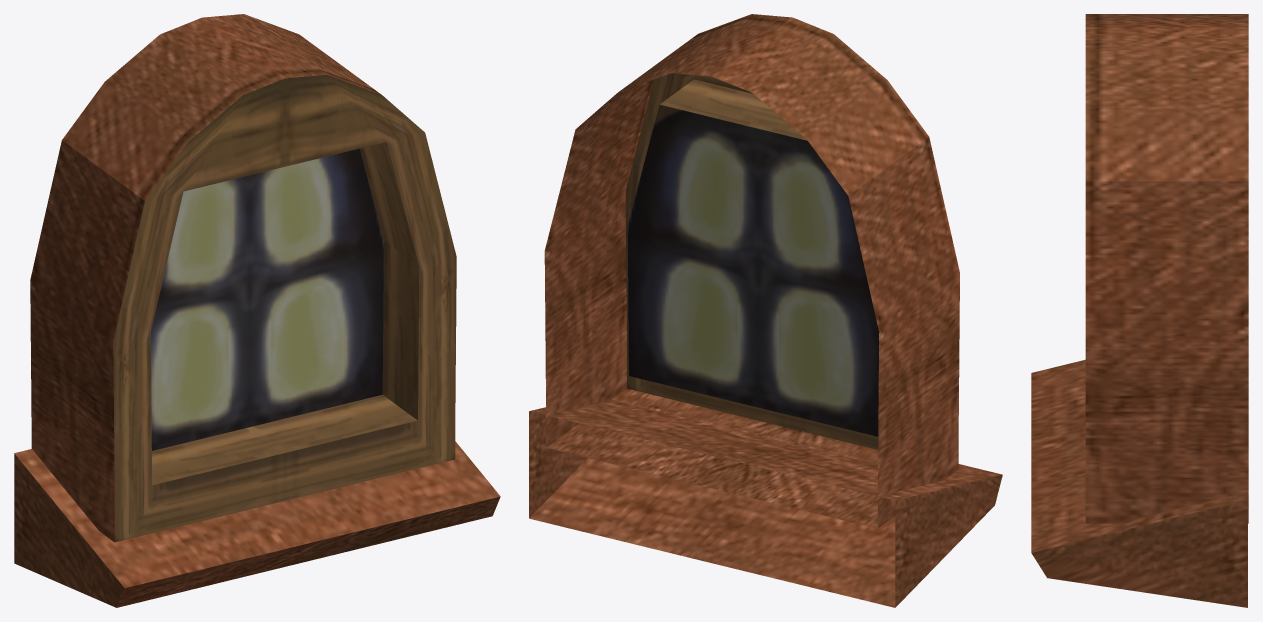
The model's file is fanasty_mod_sml_window02.fbx.
3 views of the same model, side by side, from view 1: azimuth 30°, elevation 25°; view 2: azimuth 150°, elevation 25°; view 3: azimuth 270°, elevation 25° (orthographic). The views are drawn at different scales.
Visible parts, largest first — view 1: sma_window_02; view 2: sma_window_02; view 3: sma_window_02.
Boxes of the visible parts, x1=… form: sma_window_02: x1=14, y1=14, x2=500, y2=607; sma_window_02: x1=529, y1=14, x2=1002, y2=607; sma_window_02: x1=1031, y1=14, x2=1248, y2=607.
Bounding box in the file's own units: 0.747 × 0.9488 × 0.381.
